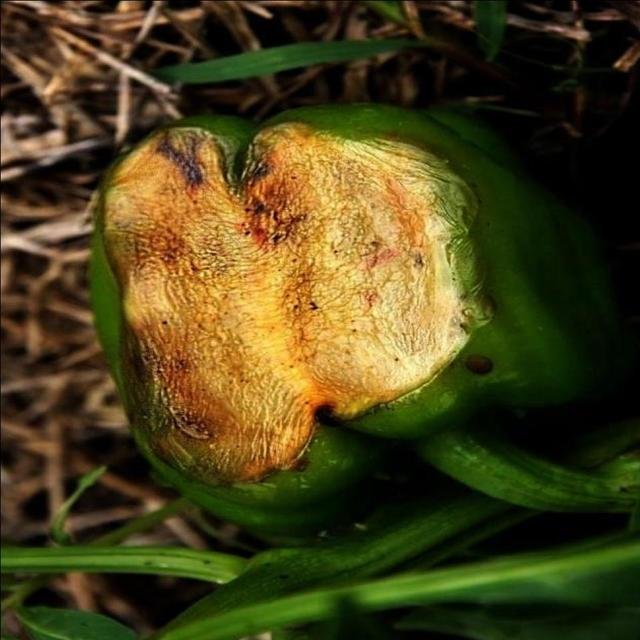Sunscald Fruit: (52, 84, 344, 318)
